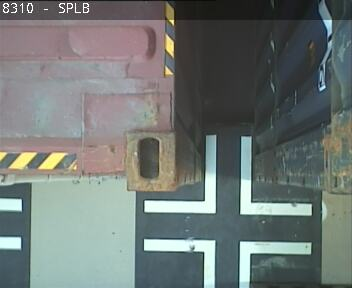groundmarker_1: (143, 134, 312, 217), (143, 238, 312, 288)
